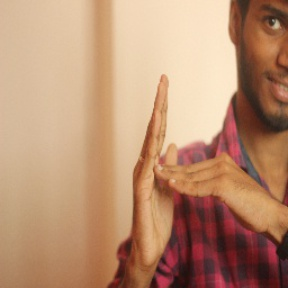Z: (124, 70, 281, 261)
